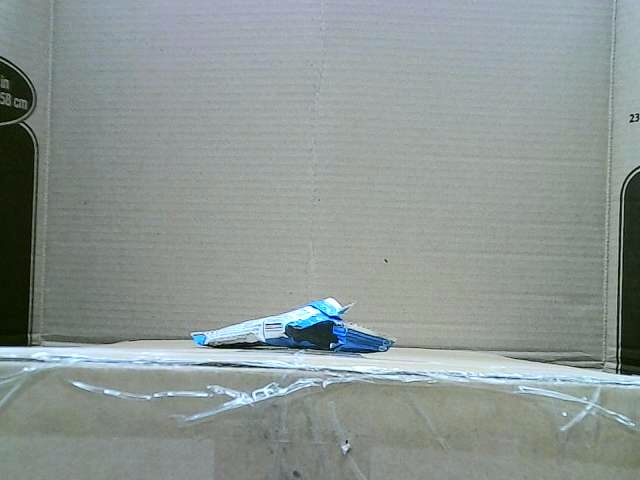CandyWrapper: (190, 295, 398, 353)
